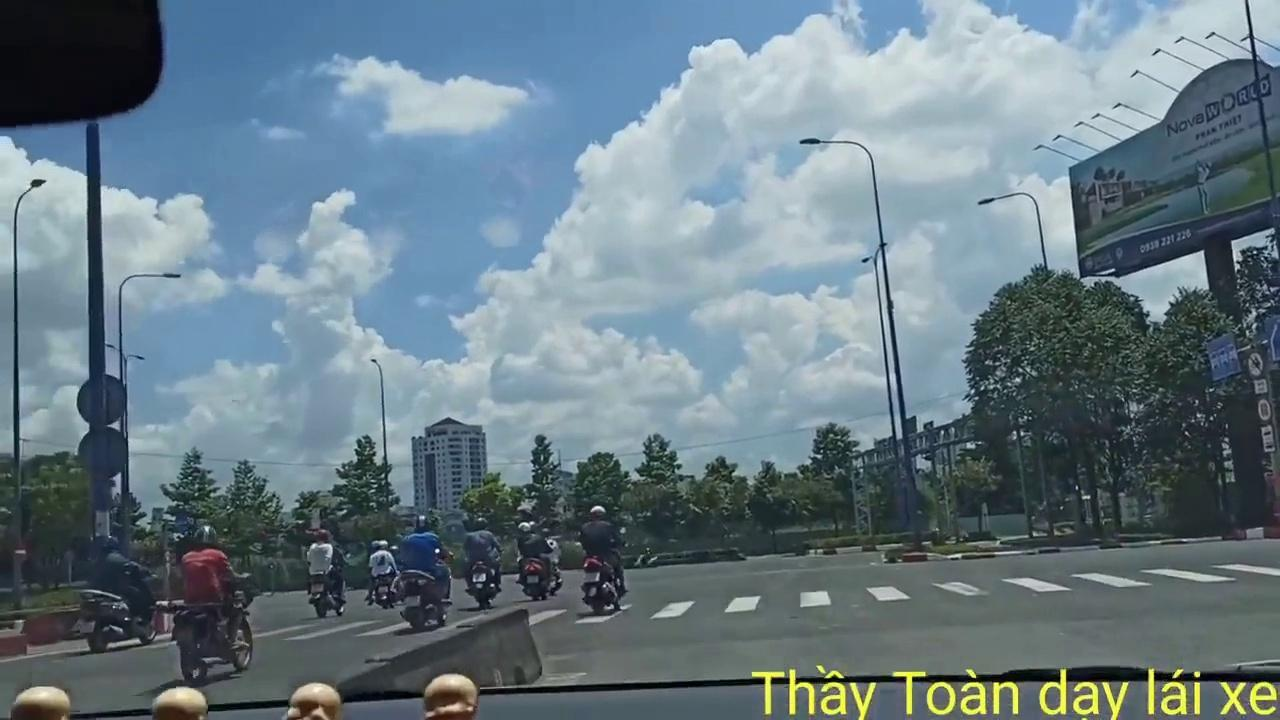Biển phụ: (1259, 424, 1277, 454)
Cấm xe máy: (1246, 351, 1266, 379)
Cấm đi ngược chiều: (11, 538, 33, 564)
Làn đường cho từng xe: (1203, 335, 1241, 380)
